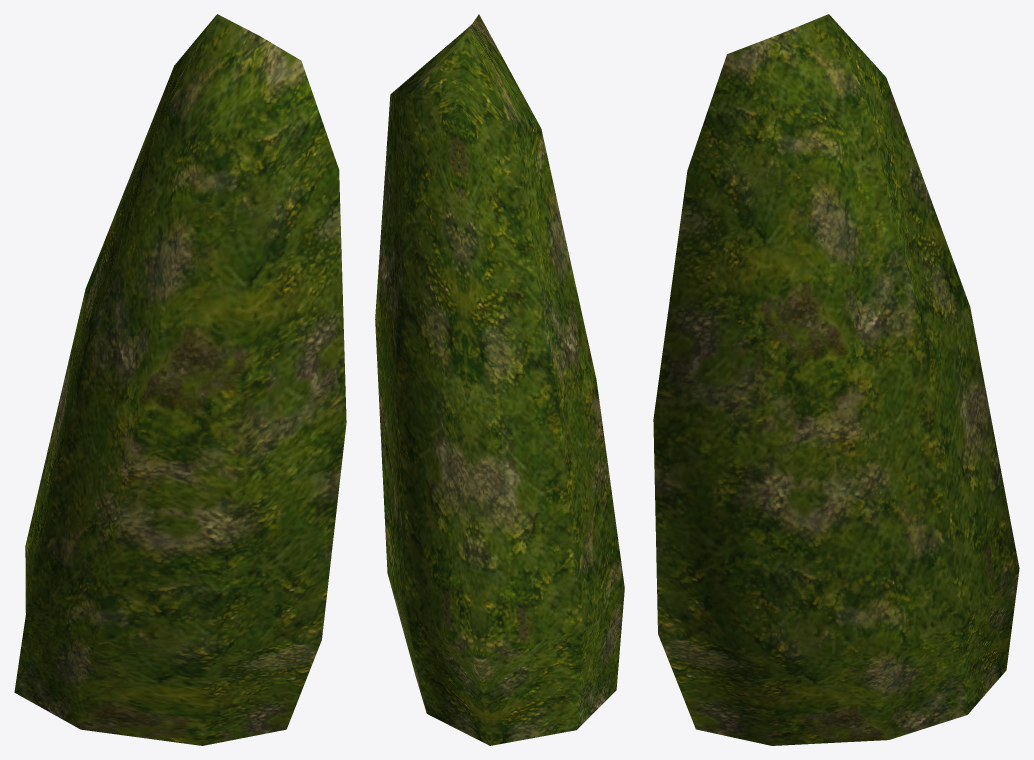
Rendered from OVERHILL_A_01_BOX12.fbx.
3 renders of one model, left to right at view 1: azimuth 30°, elevation 25°; view 2: azimuth 150°, elevation 25°; view 3: azimuth 270°, elevation 25°, orthographic. The views are drawn at different scales.
Parts seen in each view (by area): view 1: OVERHILL_A_01_BOX12; view 2: OVERHILL_A_01_BOX12; view 3: OVERHILL_A_01_BOX12.
Part boxes in pixels (<box>): OVERHILL_A_01_BOX12: <box>14,14,346,745</box>; OVERHILL_A_01_BOX12: <box>375,14,624,745</box>; OVERHILL_A_01_BOX12: <box>653,14,1019,745</box>.
Size of the model in its own units: 23430 by 61755 by 28779.
Materials: 1 (1 with a texture image).
